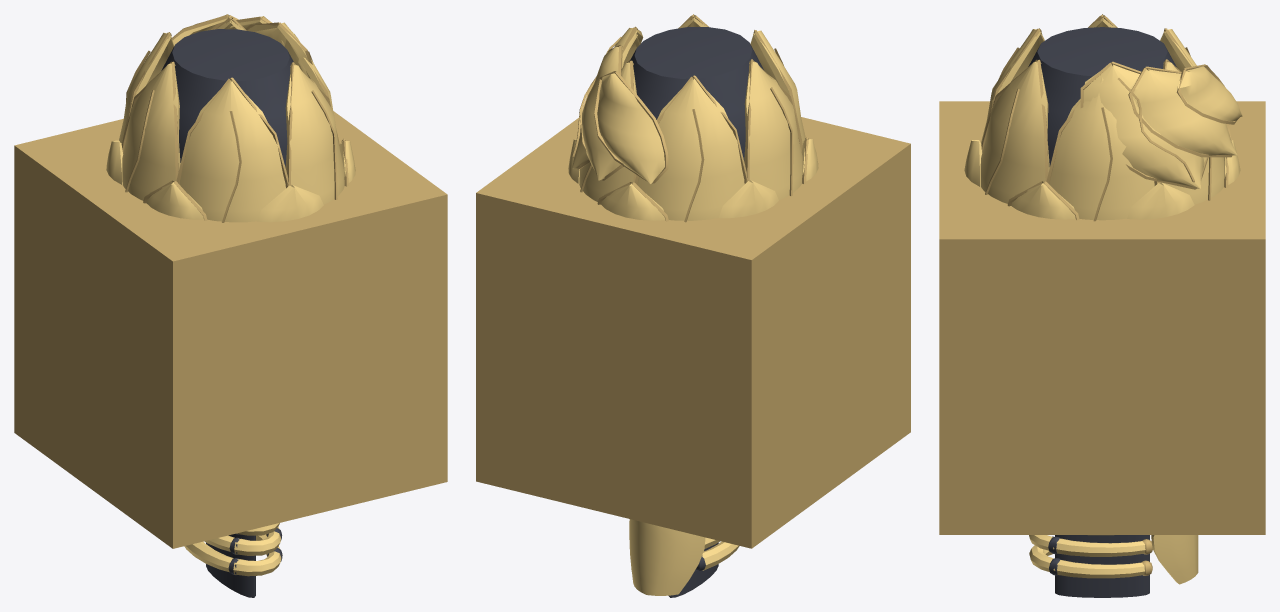
File: CallistoProsthetic.glb
3 views of the same model, side by side, from view 1: azimuth 30°, elevation 25°; view 2: azimuth 150°, elevation 25°; view 3: azimuth 270°, elevation 25° (orthographic). The views are drawn at different scales.
Parts seen in each view (by area): view 1: WeaponsOrigin_Marker, CallistoProsthetic_Gold, CallistoProsthetic_BluedSteel, CallistoProsthetic_Brass; view 2: WeaponsOrigin_Marker, CallistoProsthetic_Gold, CallistoProsthetic_BluedSteel, CallistoProsthetic_Brass; view 3: WeaponsOrigin_Marker, CallistoProsthetic_Gold, CallistoProsthetic_BluedSteel, CallistoProsthetic_Brass.
Part boxes in pixels (x1=…): WeaponsOrigin_Marker: x1=14, y1=111, x2=447, y2=548; CallistoProsthetic_Gold: x1=106, y1=14, x2=355, y2=576; CallistoProsthetic_BluedSteel: x1=161, y1=29, x2=293, y2=597; CallistoProsthetic_Brass: x1=122, y1=15, x2=348, y2=222; WeaponsOrigin_Marker: x1=476, y1=117, x2=910, y2=548; CallistoProsthetic_Gold: x1=568, y1=14, x2=818, y2=595; CallistoProsthetic_BluedSteel: x1=630, y1=27, x2=763, y2=597; CallistoProsthetic_Brass: x1=572, y1=15, x2=808, y2=222; WeaponsOrigin_Marker: x1=939, y1=101, x2=1265, y2=534; CallistoProsthetic_Gold: x1=964, y1=14, x2=1242, y2=584; CallistoProsthetic_BluedSteel: x1=1028, y1=27, x2=1176, y2=597; CallistoProsthetic_Brass: x1=981, y1=15, x2=1236, y2=575.
Bounding box in the file's own units: 1 × 1.89 × 1.
